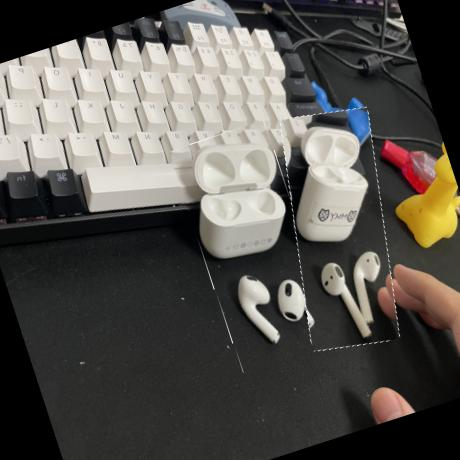airpod2: (251, 98, 427, 360)
airpod3: (169, 119, 339, 374)
